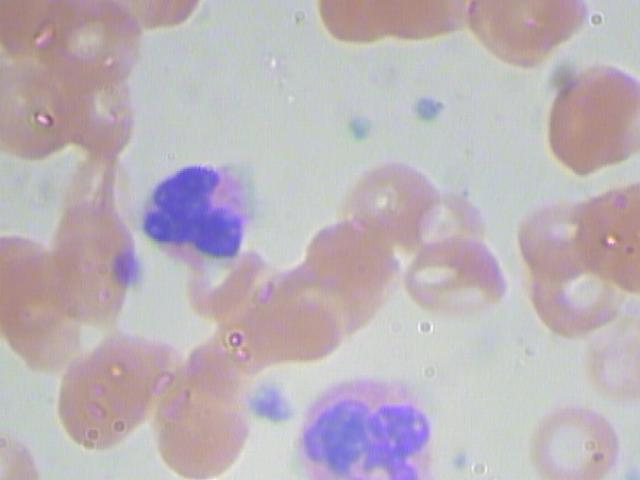Platelets: (241, 381, 298, 426), (110, 247, 148, 289), (343, 108, 381, 150), (409, 88, 447, 130)
Red Blood Cells: (534, 58, 639, 182), (395, 228, 514, 329), (1, 246, 94, 370), (27, 1, 141, 98), (47, 358, 151, 455), (83, 321, 187, 418), (332, 153, 436, 250), (301, 211, 405, 308), (251, 264, 355, 361), (153, 383, 258, 479), (453, 1, 593, 71), (522, 254, 630, 342), (512, 190, 620, 278), (520, 396, 632, 479), (57, 62, 148, 157), (1, 65, 91, 160), (556, 319, 639, 405), (407, 193, 493, 269)
White Blood Cells: (127, 143, 270, 273), (287, 364, 438, 479)
